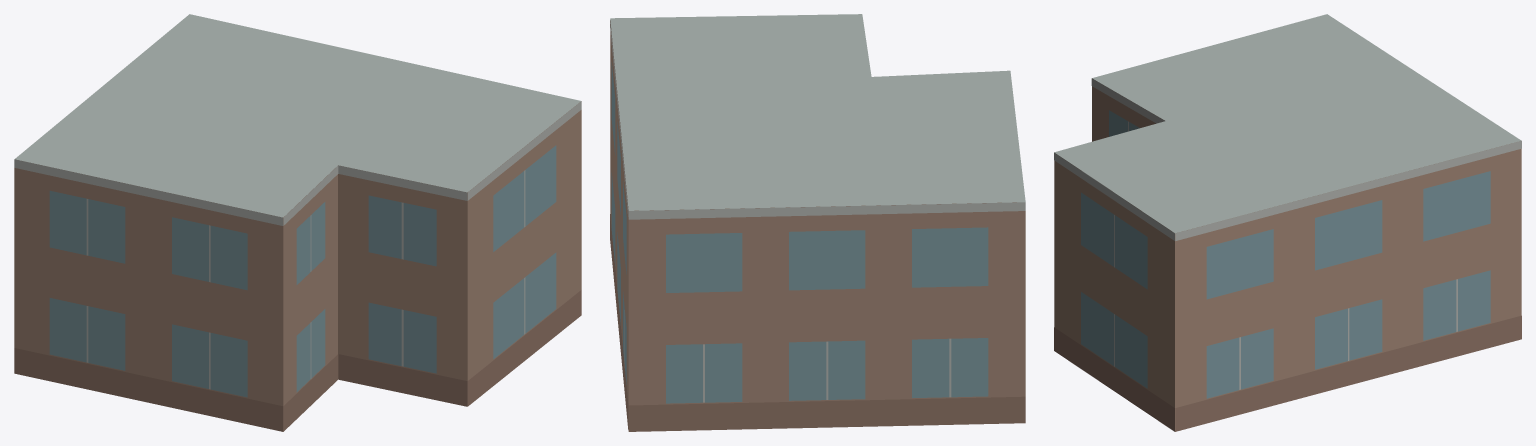
Rendered from survey-upis-32984931.glb.
3 views of the same model, side by side, from view 1: azimuth 30°, elevation 25°; view 2: azimuth 150°, elevation 25°; view 3: azimuth 270°, elevation 25° (orthographic). The views are drawn at different scales.
Visible parts, largest first — view 1: survey-upis-32984931.tmp; view 2: survey-upis-32984931.tmp; view 3: survey-upis-32984931.tmp.
Boxes of the visible parts, <box> form: survey-upis-32984931.tmp: <box>14,14,581,431</box>; survey-upis-32984931.tmp: <box>610,14,1025,431</box>; survey-upis-32984931.tmp: <box>1054,14,1521,431</box>.
Bounding box in the file's own units: 14.46 × 6.1 × 13.03.
